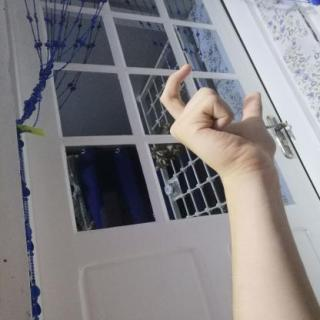NOON: (147, 57, 291, 188)
